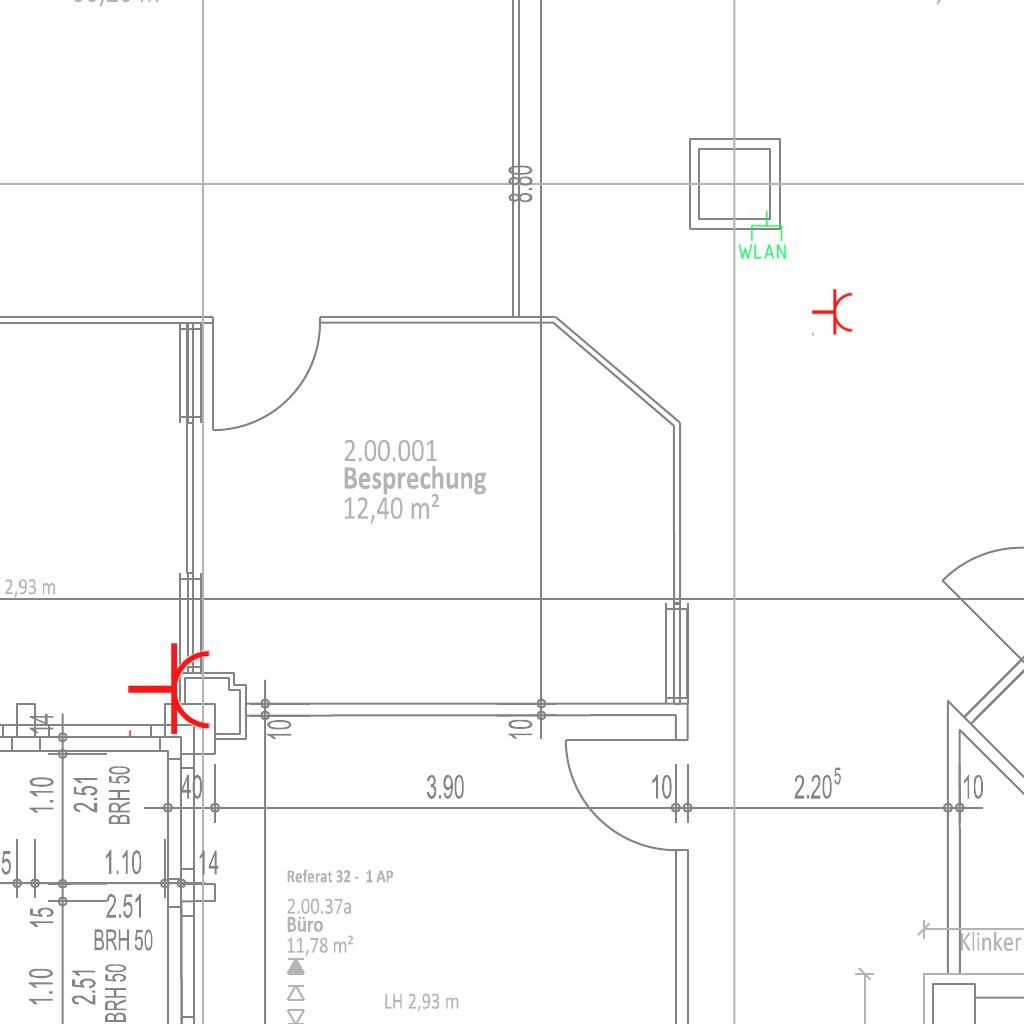Schukosteckdose_einfach: (126, 641, 213, 741), (811, 288, 854, 338)
WLAN: (736, 209, 788, 261)
